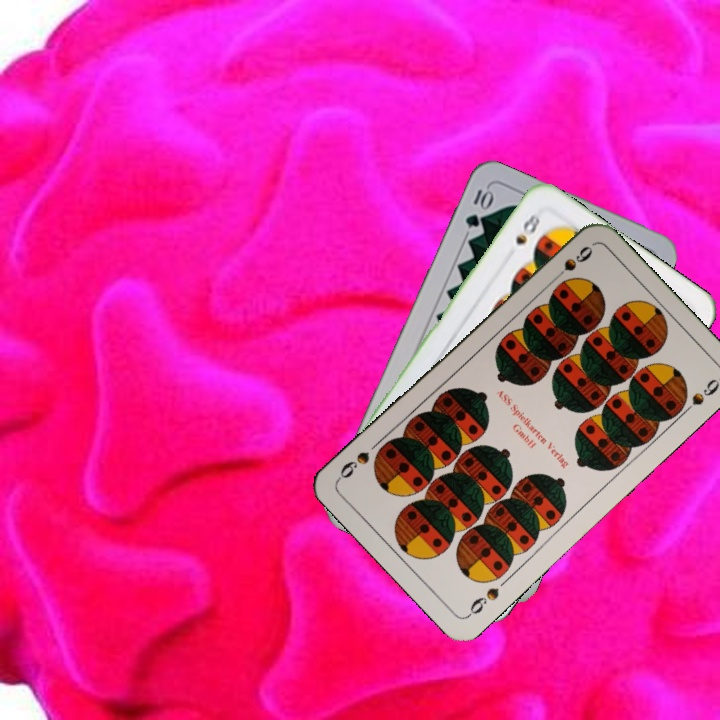G10: (461, 184, 495, 231)
S8: (511, 209, 543, 248)
S9: (547, 242, 596, 286), (463, 583, 502, 620)
